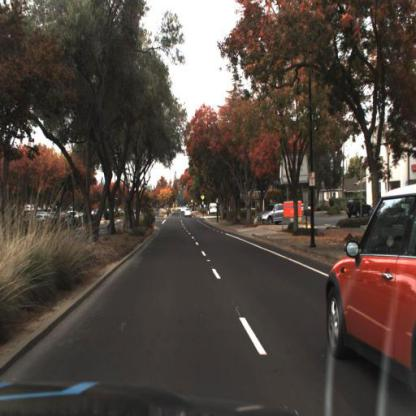car: (329, 191, 416, 415), (258, 203, 285, 228), (347, 199, 372, 217), (185, 208, 193, 219)
